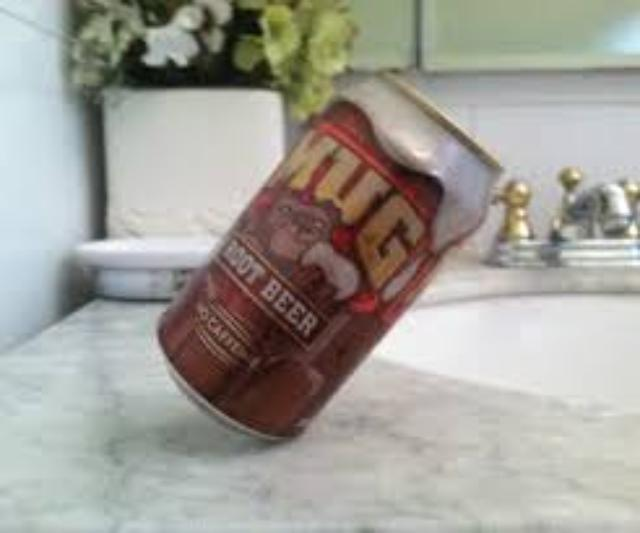metal: (156, 73, 494, 432)
